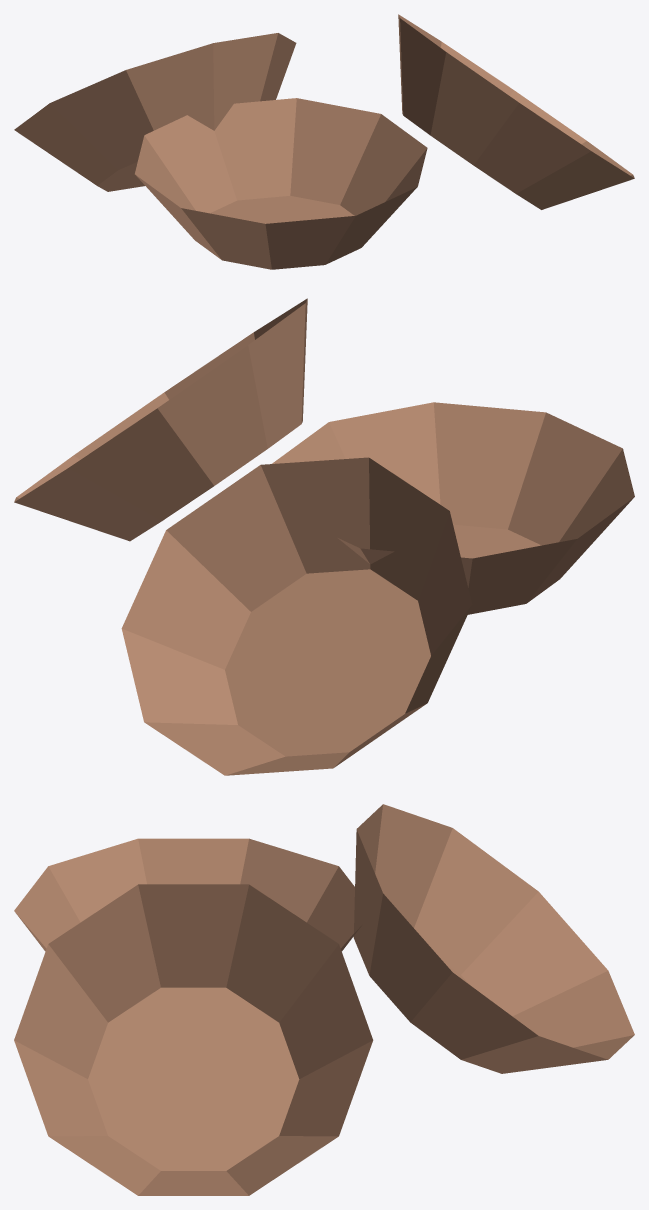
Rendered from clay_bowls.glb.
3 views of the same model, one above another, from view 1: azimuth 30°, elevation 25°; view 2: azimuth 150°, elevation 25°; view 3: azimuth 270°, elevation 25° (orthographic). The views are drawn at different scales.
Parts seen in each view (by area): view 1: bowl_0, bowl_1, bowl_2; view 2: bowl_1, bowl_0, bowl_2; view 3: bowl_2, bowl_1, bowl_0.
Boxes of the visible parts, x1,y1,x2,y2 form: bowl_0: (135, 98, 427, 269); bowl_1: (14, 33, 296, 191); bowl_2: (398, 14, 634, 209); bowl_1: (121, 457, 472, 775); bowl_0: (272, 402, 634, 614); bowl_2: (14, 298, 307, 541); bowl_2: (14, 884, 373, 1195); bowl_1: (353, 804, 634, 1073); bowl_0: (14, 838, 361, 951).
Size of the model in its own units: 0.593 by 0.2693 by 0.5876.
